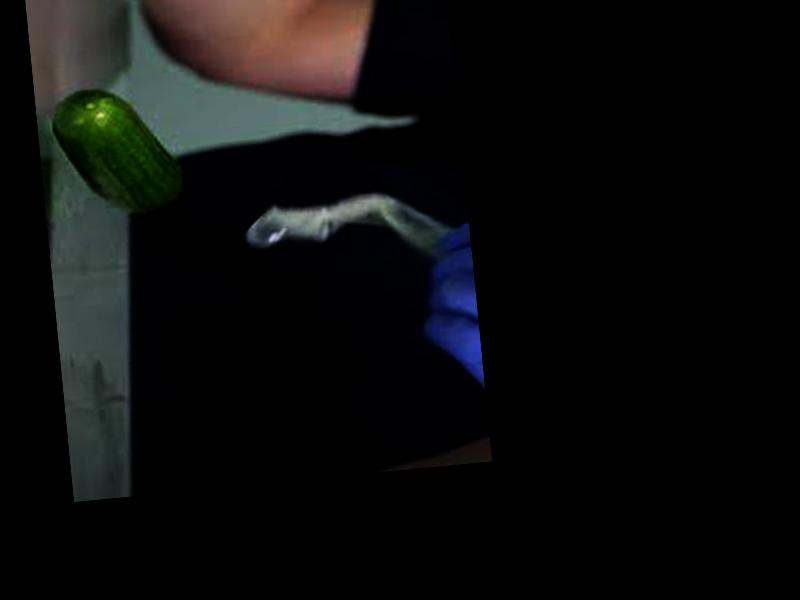Cucumber: (49, 81, 185, 219)
